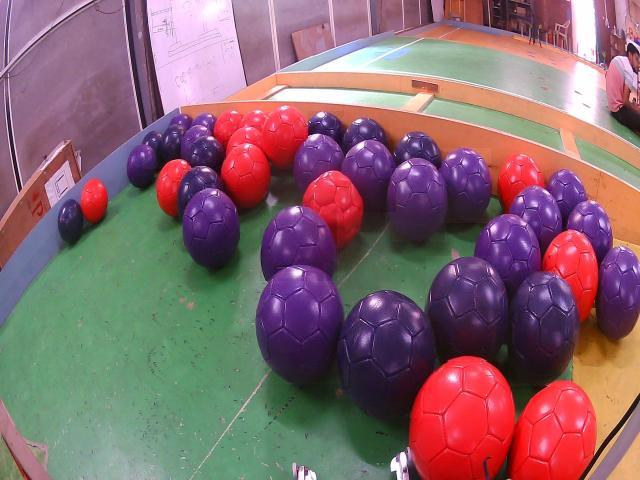jambhalya: (255, 266, 345, 384), (474, 213, 541, 301), (261, 206, 337, 281), (386, 158, 447, 242), (183, 190, 240, 268), (595, 245, 640, 340), (342, 138, 396, 212), (440, 149, 491, 223), (509, 185, 562, 254), (293, 135, 344, 193), (568, 200, 612, 266), (547, 169, 587, 229), (127, 145, 157, 188), (182, 125, 212, 160), (192, 112, 216, 132), (170, 113, 192, 130)
kaalyya: (337, 290, 435, 418), (426, 256, 509, 361), (509, 271, 579, 386), (177, 166, 225, 219), (341, 118, 389, 155), (394, 132, 442, 168), (187, 135, 225, 175), (309, 112, 344, 144), (58, 199, 82, 243), (160, 125, 186, 163), (143, 130, 162, 169)
